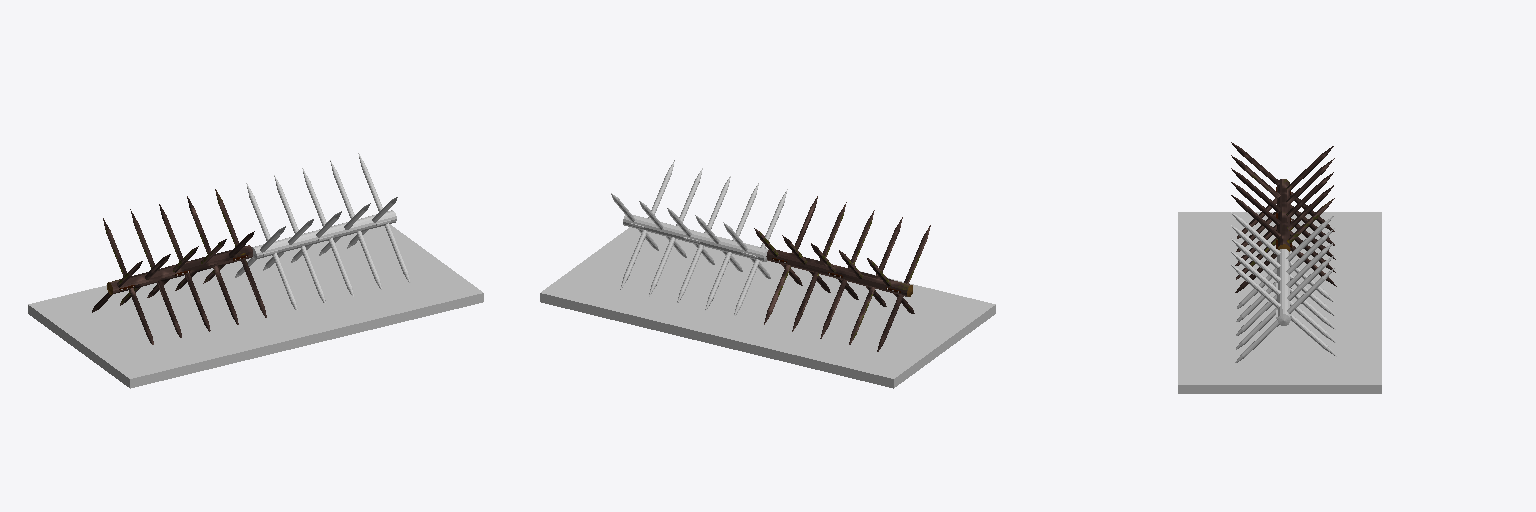
The picture shows the model from 3 angles: view 1: azimuth 30°, elevation 25°; view 2: azimuth 150°, elevation 25°; view 3: azimuth 270°, elevation 25°; orthographic projection.
Parts seen in each view (by area): view 1: Cube.001, chevaux_de_frise, chevaux_de_frise.001; view 2: Cube.001, chevaux_de_frise, chevaux_de_frise.001; view 3: Cube.001, chevaux_de_frise.001, chevaux_de_frise.
Boxes of the visible parts, <box> form: Cube.001: <box>28,224,483,388</box>; chevaux_de_frise: <box>92,189,266,344</box>; chevaux_de_frise.001: <box>235,153,410,309</box>; Cube.001: <box>540,227,995,388</box>; chevaux_de_frise: <box>754,196,930,351</box>; chevaux_de_frise.001: <box>611,160,787,316</box>; Cube.001: <box>1178,212,1381,393</box>; chevaux_de_frise.001: <box>1231,212,1336,362</box>; chevaux_de_frise: <box>1231,142,1336,292</box>.
Size of the model in its own units: 1.57 by 0.443 by 0.7874.
9 materials, 1 textured.